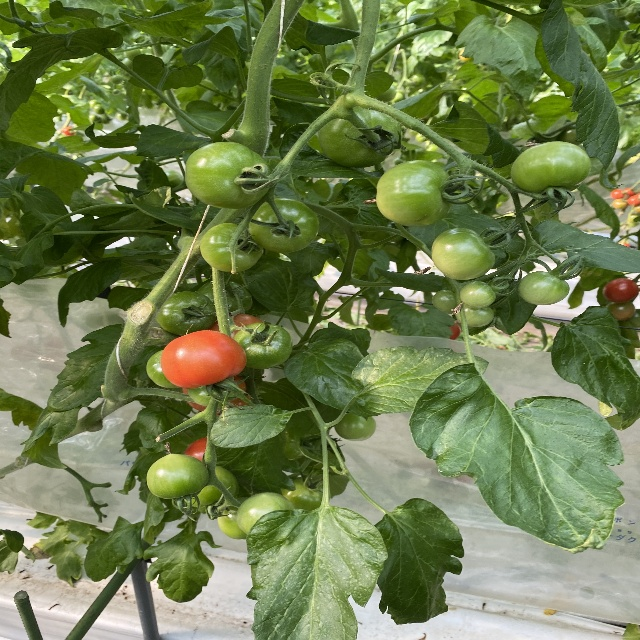l_fully_ripened: (160, 330, 247, 389), (602, 277, 639, 303)
l_green: (184, 141, 271, 210), (375, 159, 455, 226), (317, 105, 402, 168), (509, 141, 591, 195), (246, 198, 319, 253), (430, 228, 496, 281), (199, 223, 263, 274), (155, 292, 221, 336), (234, 321, 293, 370), (147, 453, 208, 499), (236, 492, 293, 535), (183, 465, 240, 508), (197, 279, 253, 319), (516, 271, 570, 305), (280, 477, 332, 511), (217, 496, 251, 539), (146, 349, 180, 389), (187, 380, 233, 408), (335, 412, 377, 442), (460, 280, 497, 308), (457, 305, 495, 327), (432, 289, 457, 314), (604, 302, 635, 321)
l_half_ripened: (210, 315, 262, 338)
